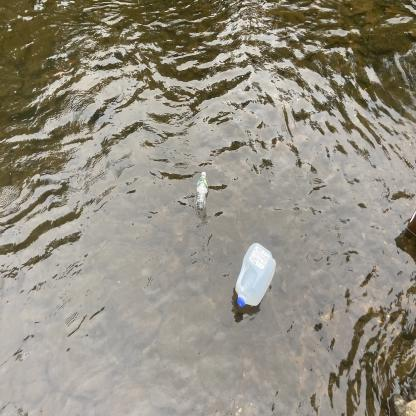trash: (232, 239, 280, 312), (190, 168, 212, 218), (405, 202, 416, 244)
